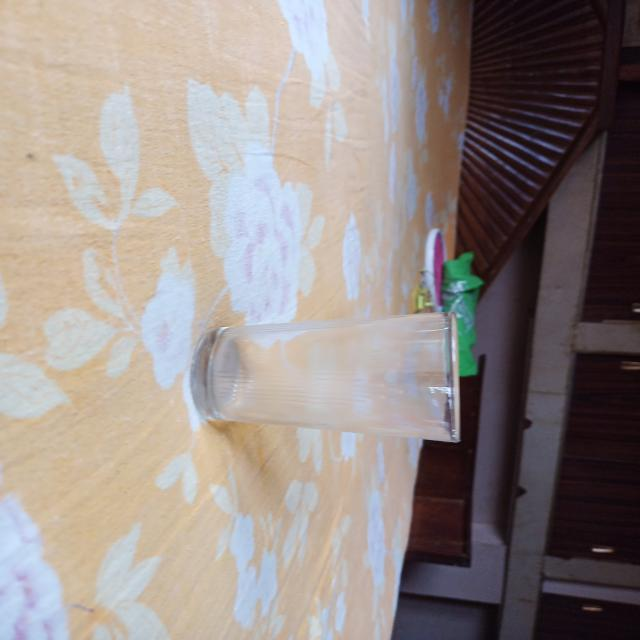Glass: (187, 307, 464, 446)
